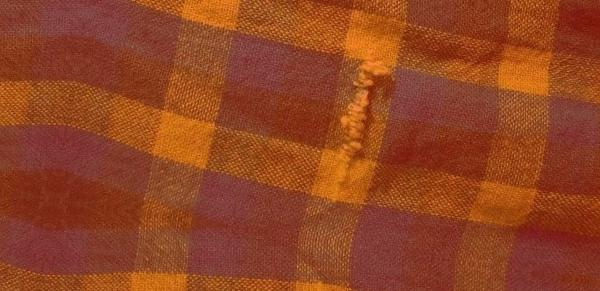knot: (338, 56, 395, 177)
